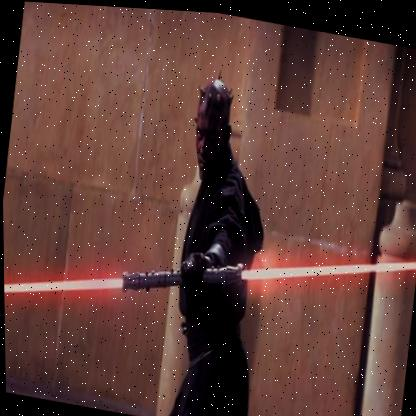person: (152, 73, 294, 416)
sith_lightsaber: (3, 186, 416, 370)
